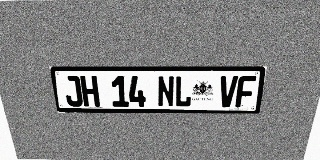1: (110, 76, 129, 107)
4: (128, 76, 146, 107)
F: (235, 76, 256, 107)
H: (80, 76, 100, 107)
J: (62, 76, 83, 107)
L: (174, 76, 192, 107)
N: (157, 76, 174, 107)
V: (218, 76, 238, 107)
